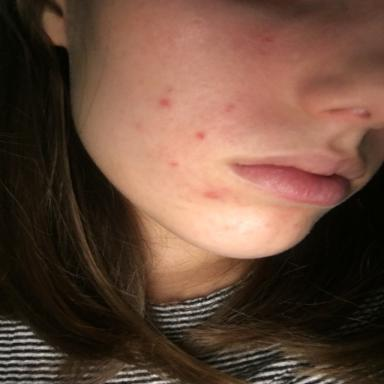acne: (204, 191, 219, 199), (225, 103, 236, 113), (159, 98, 171, 107), (196, 131, 206, 139), (172, 162, 178, 167)
